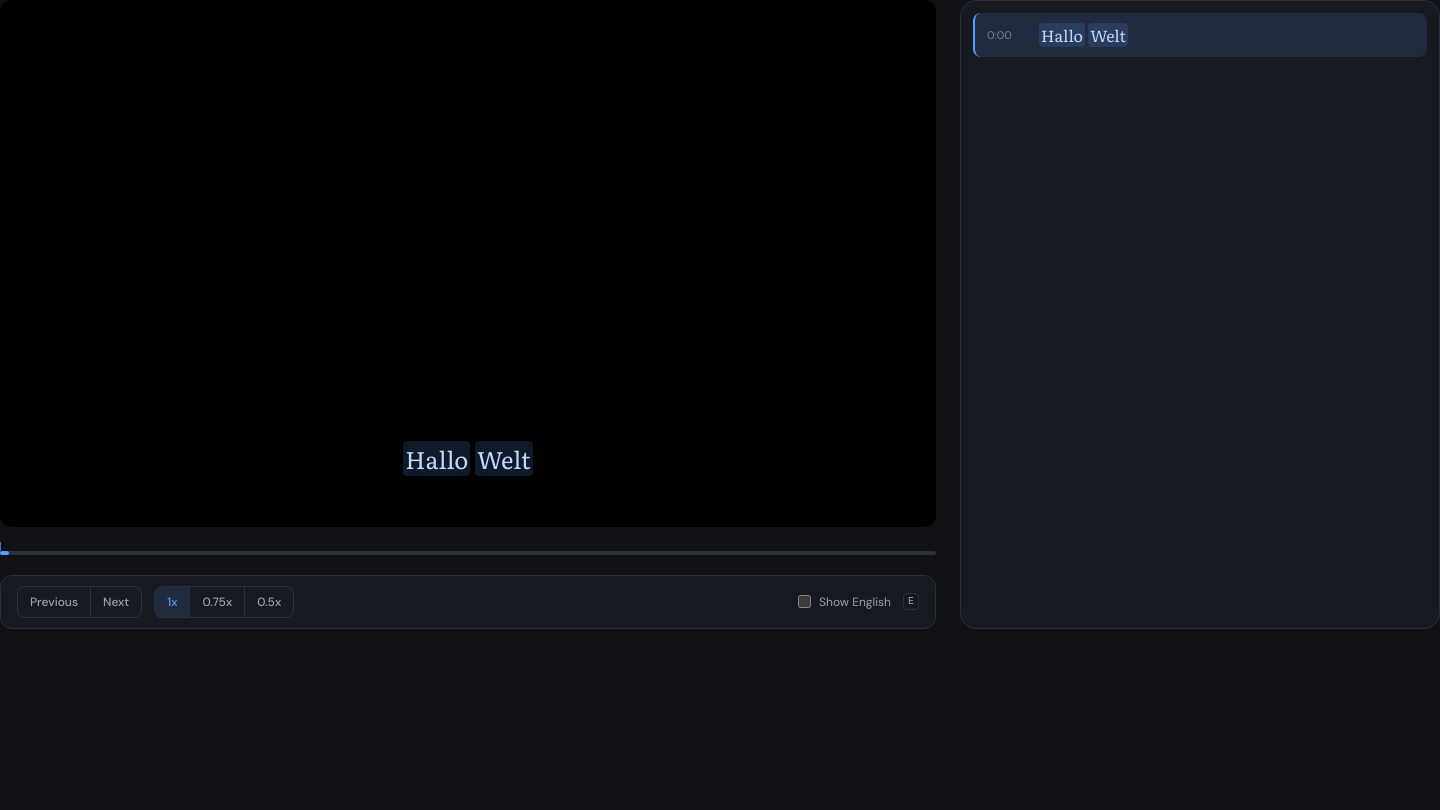
Test: video overlay › Details opens the side panel and hides the card
Click the 2nd text "Welt" at (504, 458), box x1=475 y1=440 x2=533 y2=476
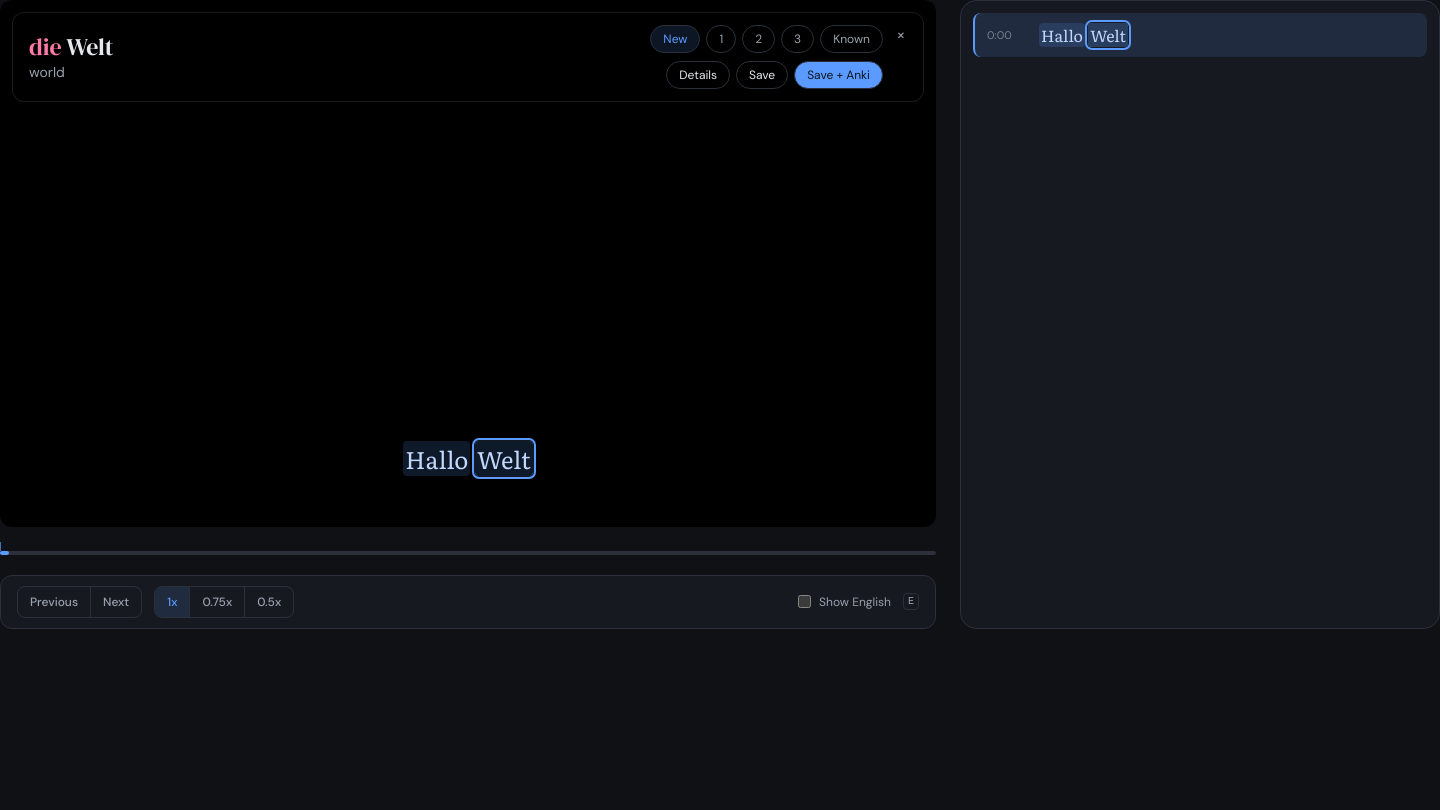
Click the button "Details" at (698, 75), box x1=666 y1=61 x2=730 y2=89
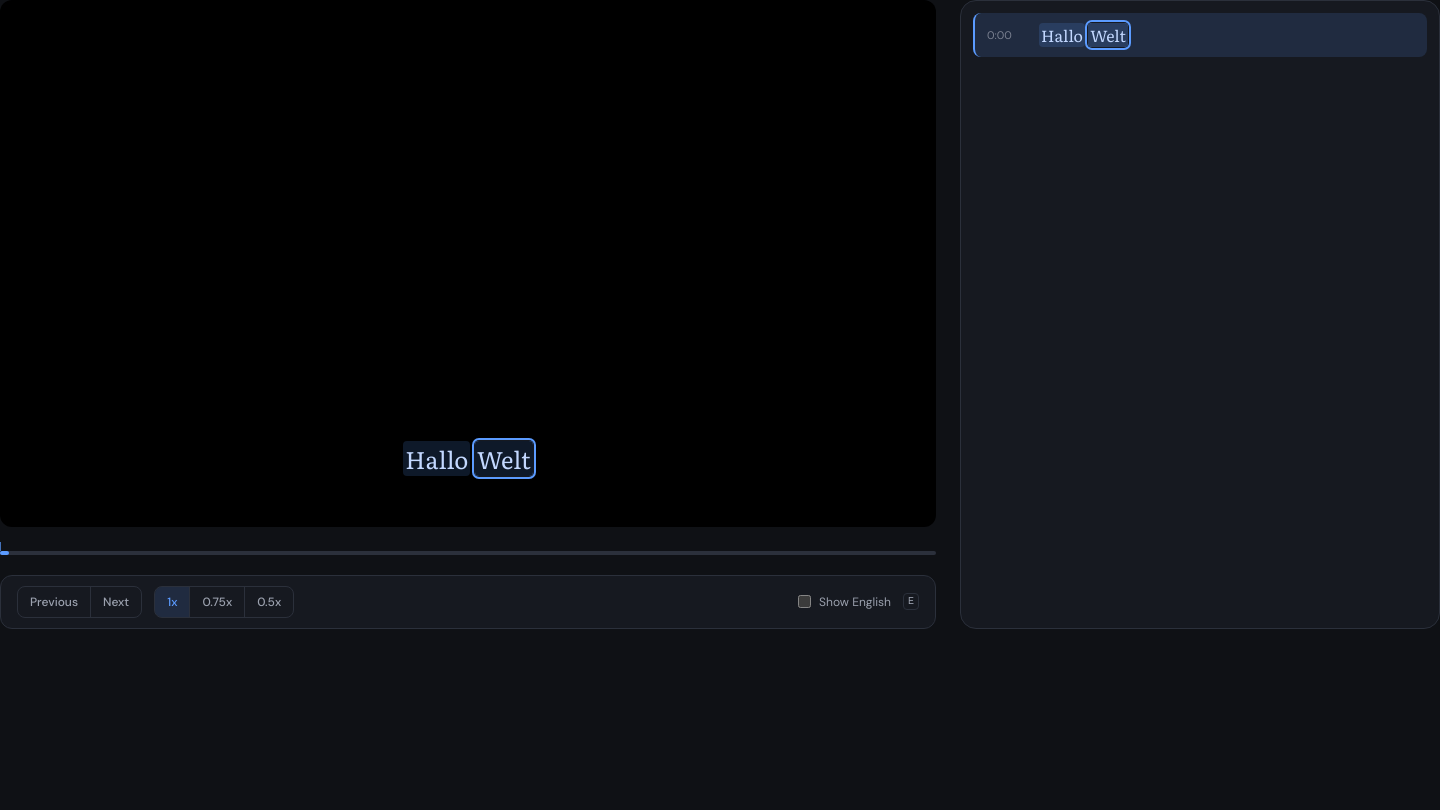
Expected: the element with test id "word-card" is gone
